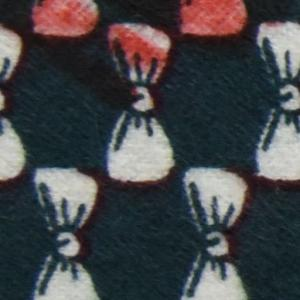Stain: (5, 1, 288, 116)
